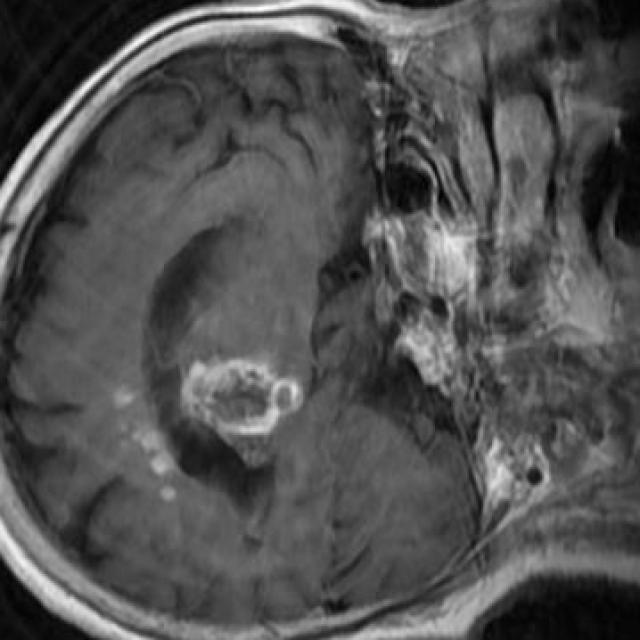glioma: (184, 353, 305, 439)
